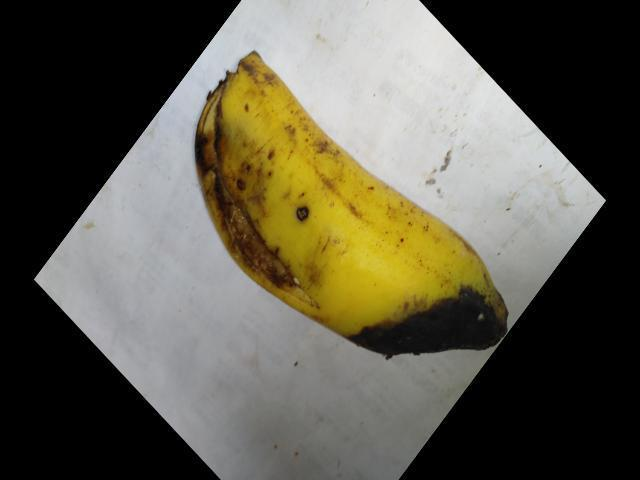rotten: (186, 38, 320, 309), (351, 274, 539, 365)
